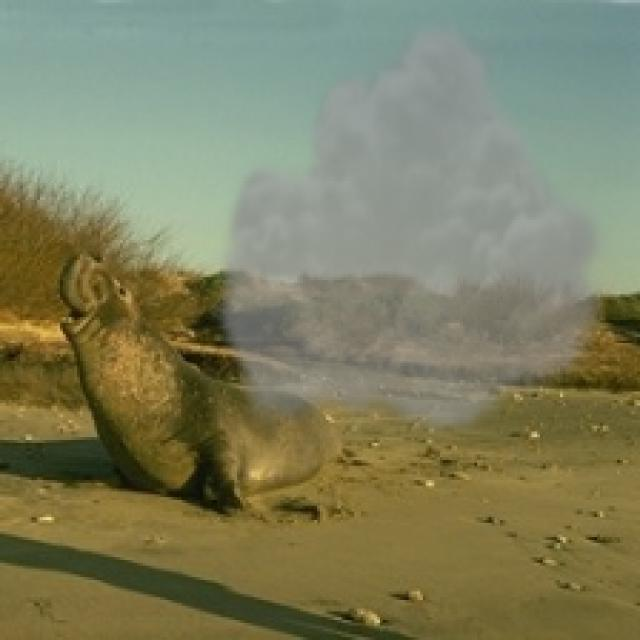Smoke: (208, 12, 618, 437)
